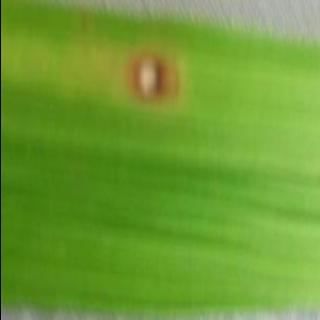Blast: (111, 49, 188, 114)
